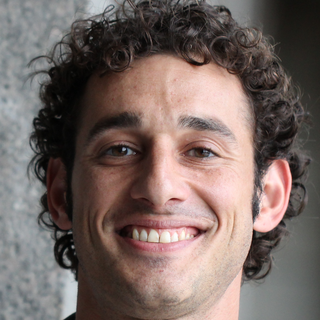eye: (178, 140, 226, 164), (99, 139, 144, 163)
